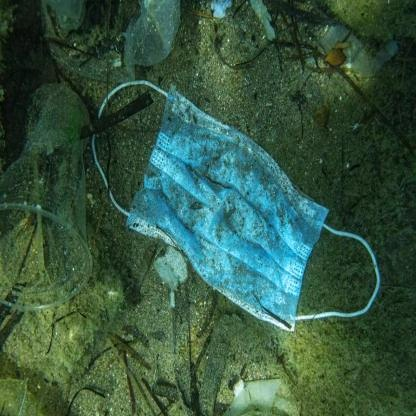Mask: (90, 78, 384, 335)
